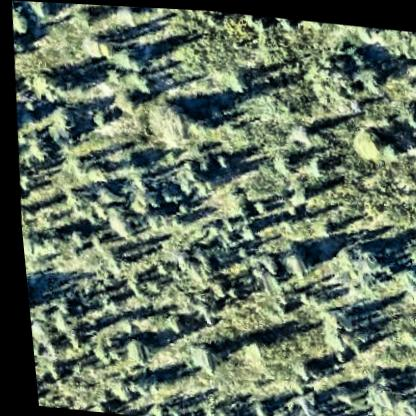tree-top: (317, 233, 389, 299), (300, 42, 360, 109), (142, 92, 201, 154), (265, 347, 312, 394), (311, 307, 356, 352), (25, 64, 70, 108), (97, 201, 141, 244), (352, 54, 390, 99), (356, 368, 393, 409), (386, 258, 416, 308), (346, 118, 381, 160), (271, 242, 307, 281), (178, 338, 215, 373), (45, 98, 76, 138), (108, 43, 146, 72), (115, 333, 149, 365), (300, 149, 329, 182), (222, 66, 252, 96), (77, 160, 111, 186), (285, 118, 314, 148), (396, 226, 416, 269), (104, 88, 137, 114), (268, 145, 297, 174), (19, 133, 48, 162), (197, 273, 227, 300), (69, 7, 96, 34), (98, 377, 126, 403), (112, 5, 141, 30), (139, 209, 166, 235), (383, 395, 416, 416), (253, 250, 278, 277), (92, 293, 117, 319), (58, 224, 83, 250), (10, 10, 33, 38), (24, 319, 49, 344), (324, 378, 347, 405), (396, 25, 416, 56), (237, 396, 268, 416), (358, 22, 382, 47), (25, 1, 55, 21), (244, 193, 267, 217), (81, 106, 106, 128), (205, 149, 230, 171), (399, 99, 416, 131), (155, 312, 181, 332), (381, 135, 400, 159), (233, 220, 253, 240)
